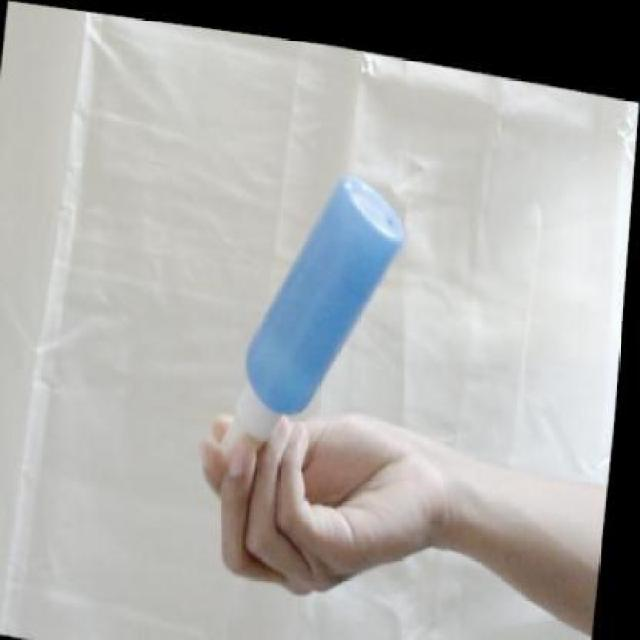Plastic: (243, 179, 404, 412)
